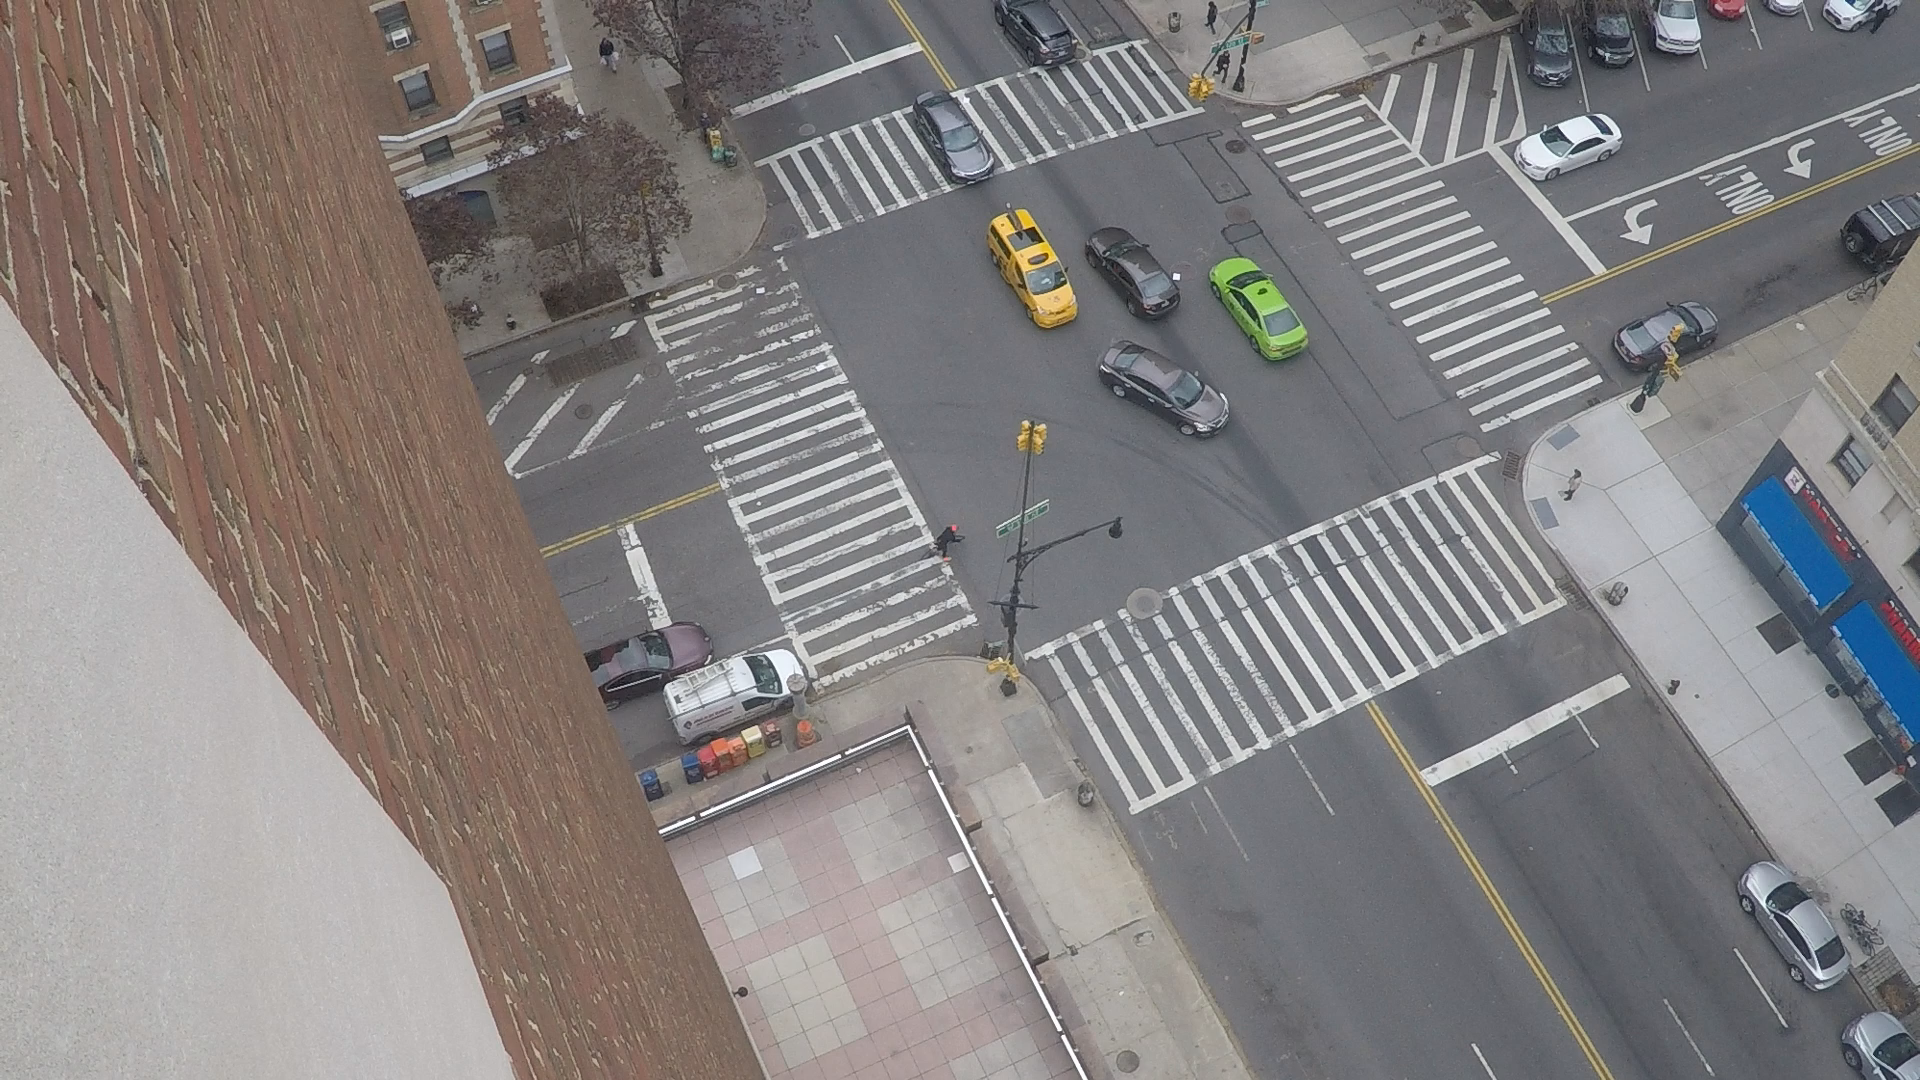Car: (1642, 1, 1652, 38), (1916, 191, 1919, 209), (1131, 314, 1139, 319), (1526, 48, 1527, 64), (1206, 267, 1208, 277), (1001, 264, 1003, 269)
Pedestrian: (603, 34, 607, 38), (948, 557, 951, 558)
